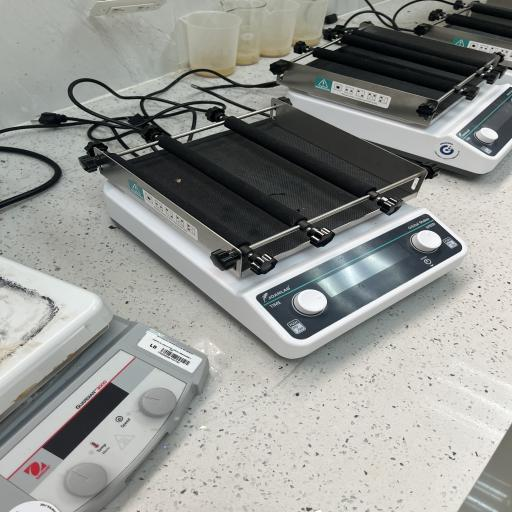Agitador_Orbital_DLAB: (63, 88, 494, 373)
